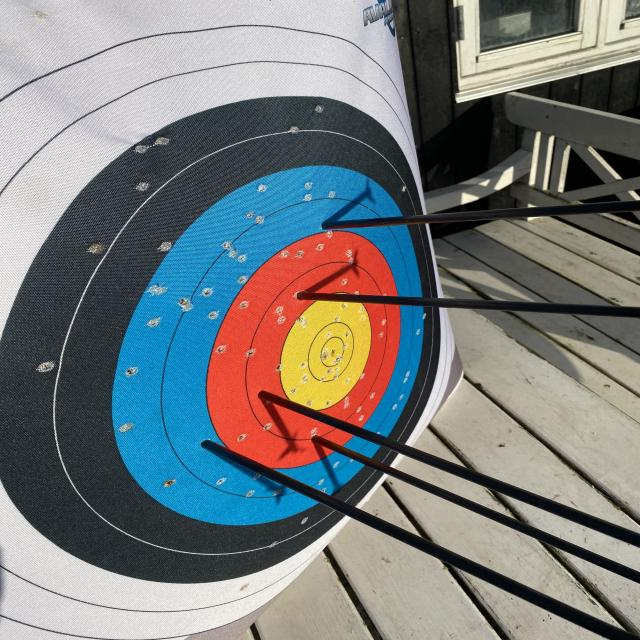Arrow_Blue: (186, 428, 232, 462), (312, 210, 346, 242)
Arrow_Red: (300, 427, 340, 458), (287, 283, 318, 321), (248, 381, 272, 414)
